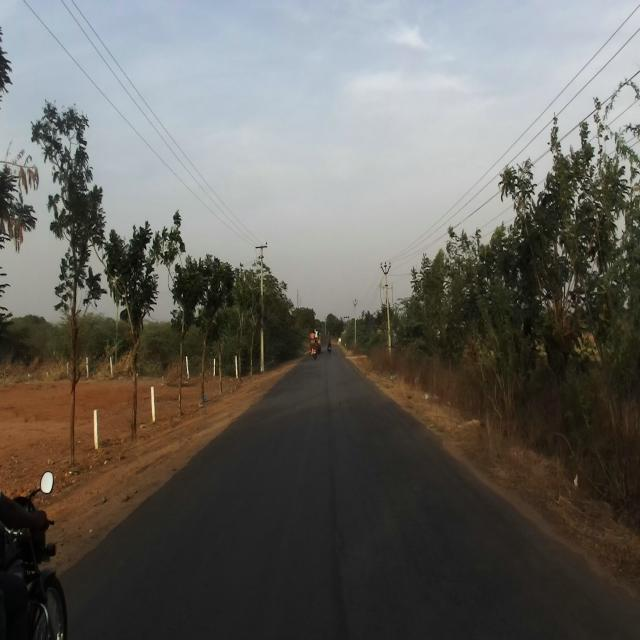motorcycle_Hero: (0, 469, 69, 638)
